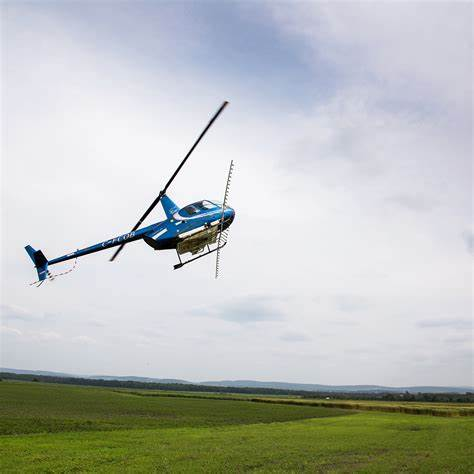Aeronef_de_service: (22, 96, 279, 303)
